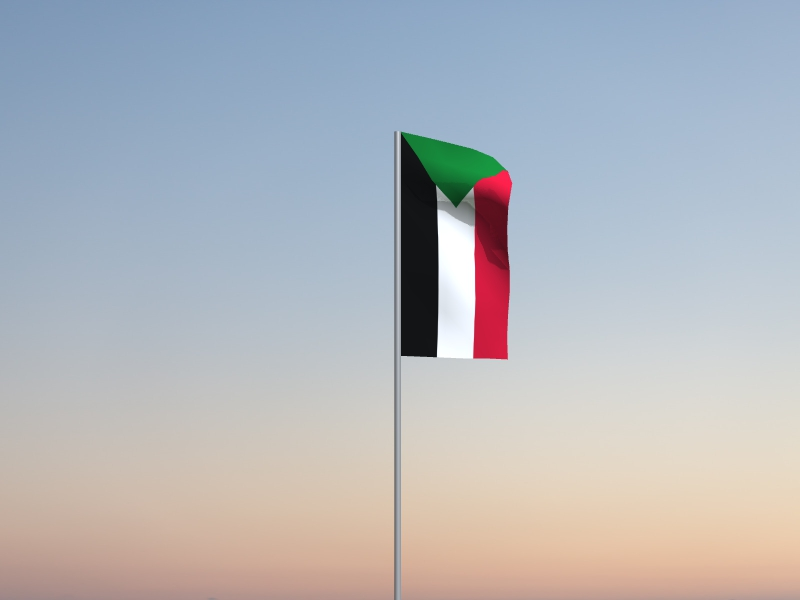sd: (402, 133, 513, 360)
